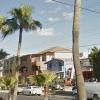Palm tree: (2, 2, 42, 90)
